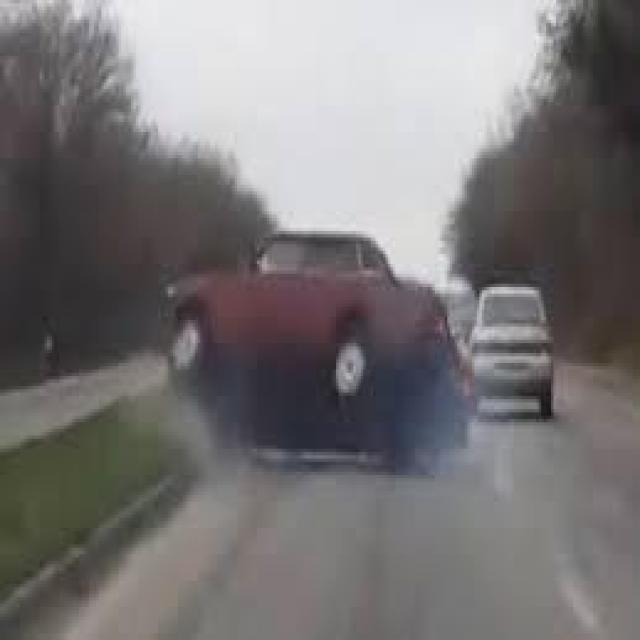severe: (157, 219, 478, 477)
